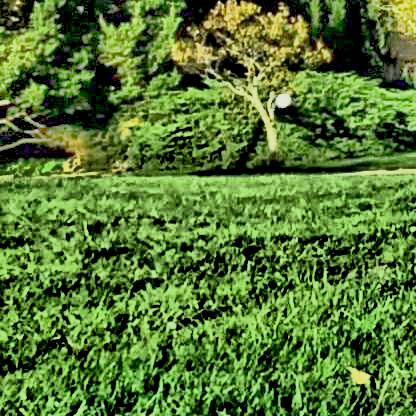golfball: (272, 89, 289, 108)
